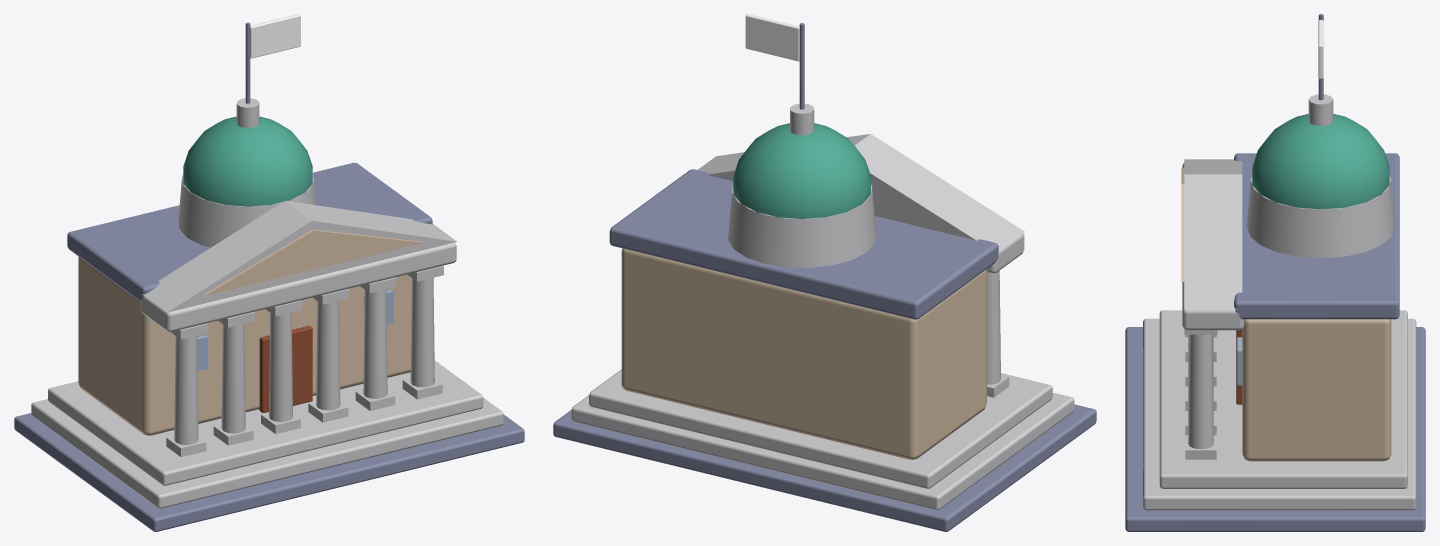
Rendered from predio-governo.glb.
The picture shows the model from 3 angles, left to right: view 1: azimuth 30°, elevation 25°; view 2: azimuth 150°, elevation 25°; view 3: azimuth 270°, elevation 25°; orthographic projection. The views are drawn at different scales.
Parts seen in each view (by area): view 1: modelo; view 2: modelo; view 3: modelo.
Part boxes in pixels (bbox=[...]): modelo: bbox=[14, 14, 524, 531]; modelo: bbox=[553, 14, 1096, 531]; modelo: bbox=[1125, 14, 1425, 531].
Size of the model in its own units: 3.85 by 3.94 by 2.54.
